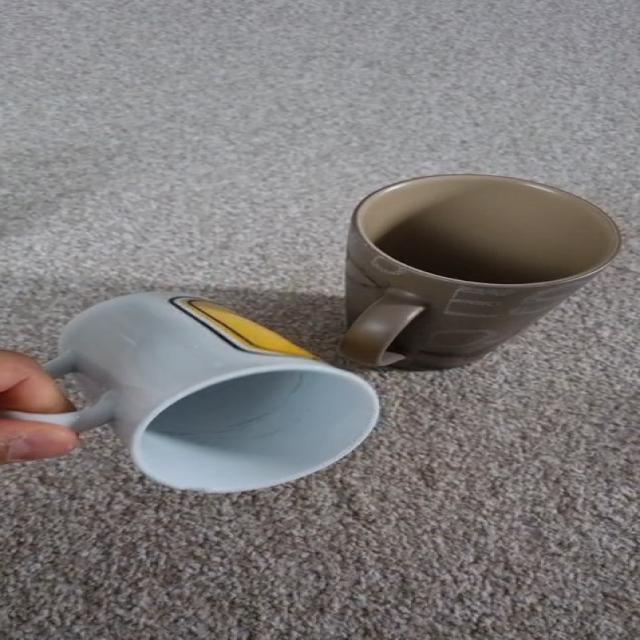Cup: (4, 293, 378, 492), (341, 174, 620, 370)
